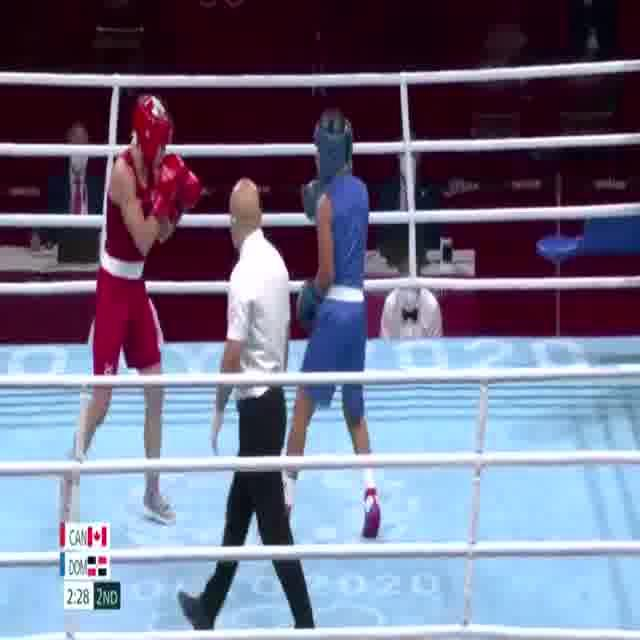blue-player: (263, 109, 382, 545)
red-player: (58, 88, 209, 554)
referee: (177, 176, 316, 630)
